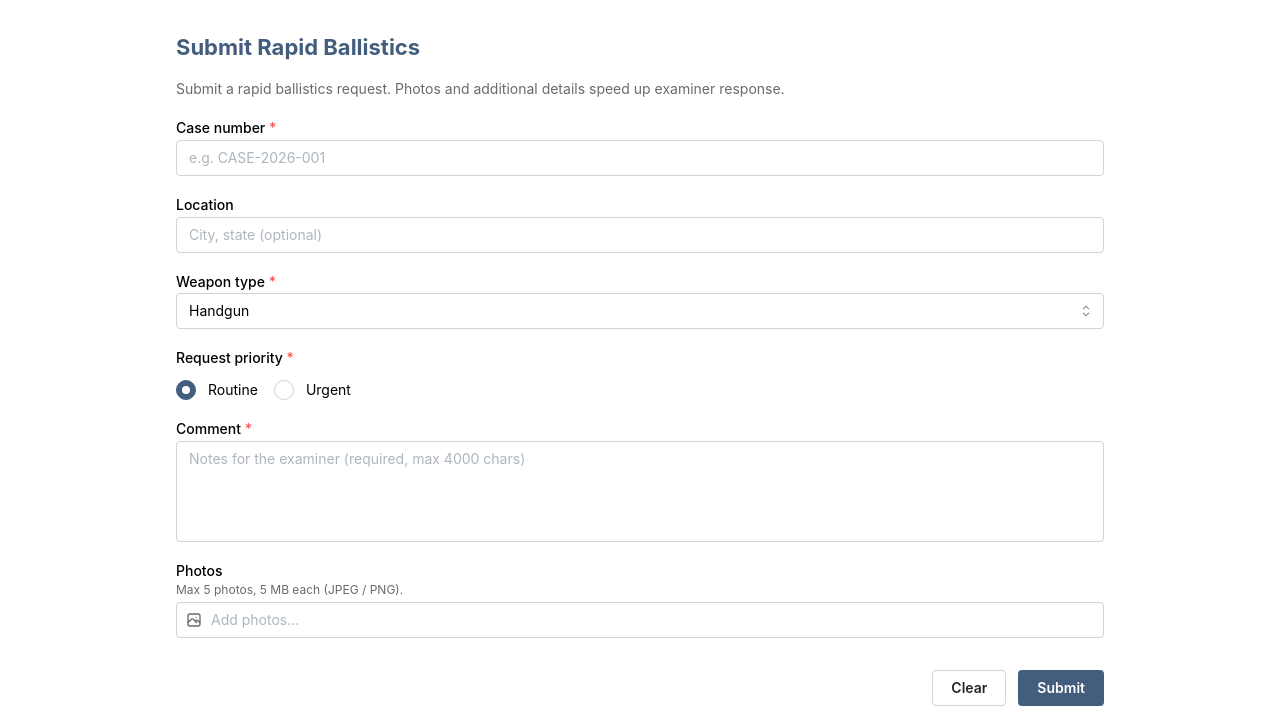
it: SubmitRapidPage › Clear button resets caseNumber input
In the field labelled "Case number *": coordinates (640, 158) left=176, top=140, right=1104, bottom=176, type "CASE-2026-001"
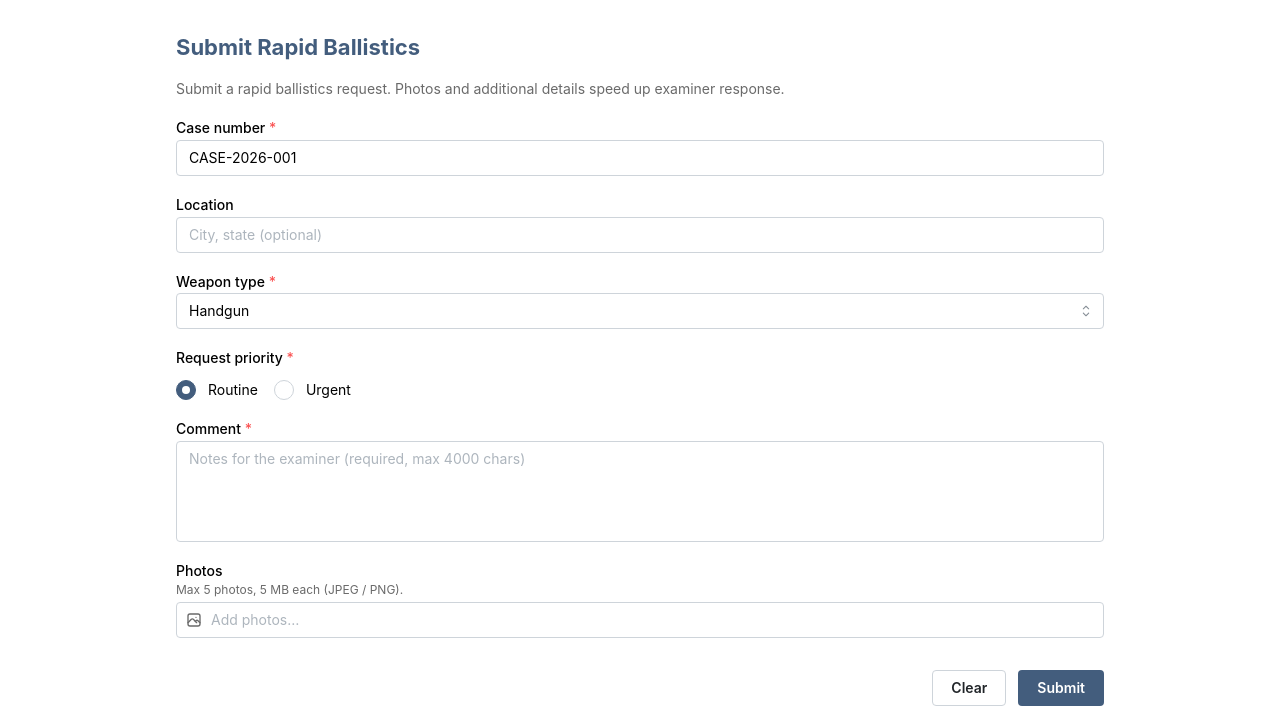
Click the button "Clear": coordinates (969, 688) left=932, top=670, right=1006, bottom=706
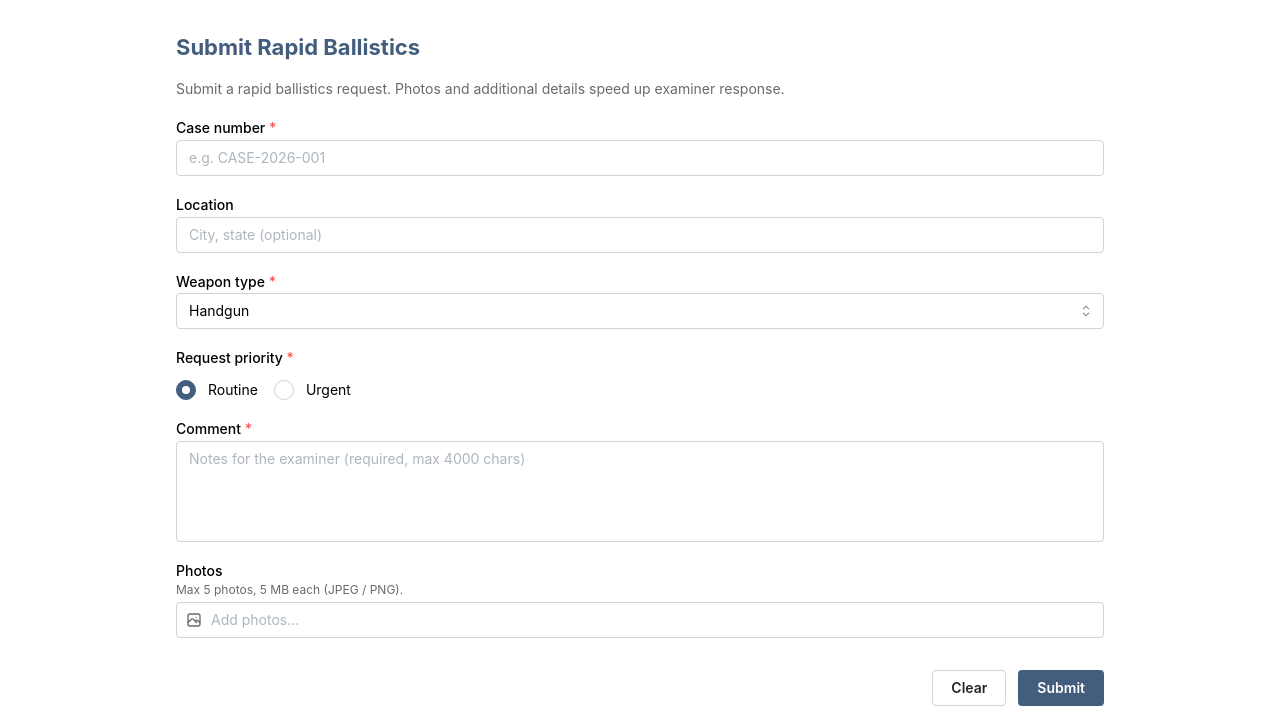
Result: the field labelled "Case number *" is empty at left=176, top=140, right=1104, bottom=176
